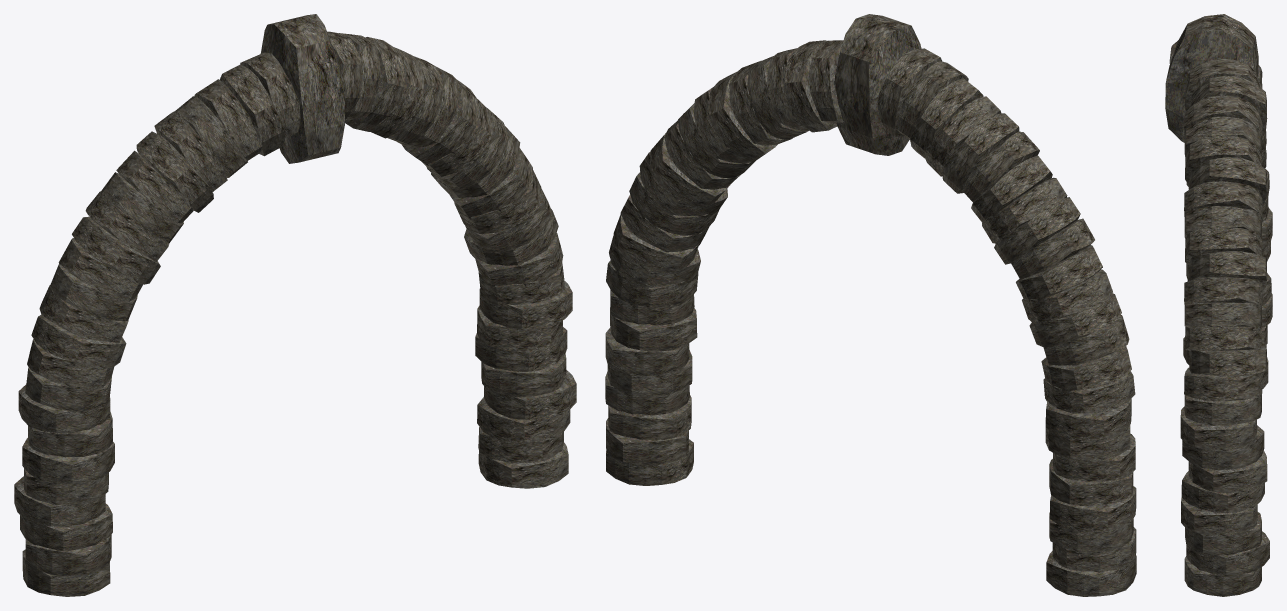
File: Arco_Portal.fbx
The picture shows the model from 3 angles, left to right: view 1: azimuth 30°, elevation 25°; view 2: azimuth 150°, elevation 25°; view 3: azimuth 270°, elevation 25°; orthographic projection. The views are drawn at different scales.
Visible parts, largest first — view 1: Arco_Portal; view 2: Arco_Portal; view 3: Arco_Portal.
Boxes of the visible parts, x1,y1,x2,y2 form: Arco_Portal: [14, 14, 576, 596]; Arco_Portal: [605, 14, 1136, 596]; Arco_Portal: [1165, 14, 1272, 596].
Bounding box in the file's own units: 18.06 × 16.48 × 3.48.
Materials: 1 (1 with a texture image).
